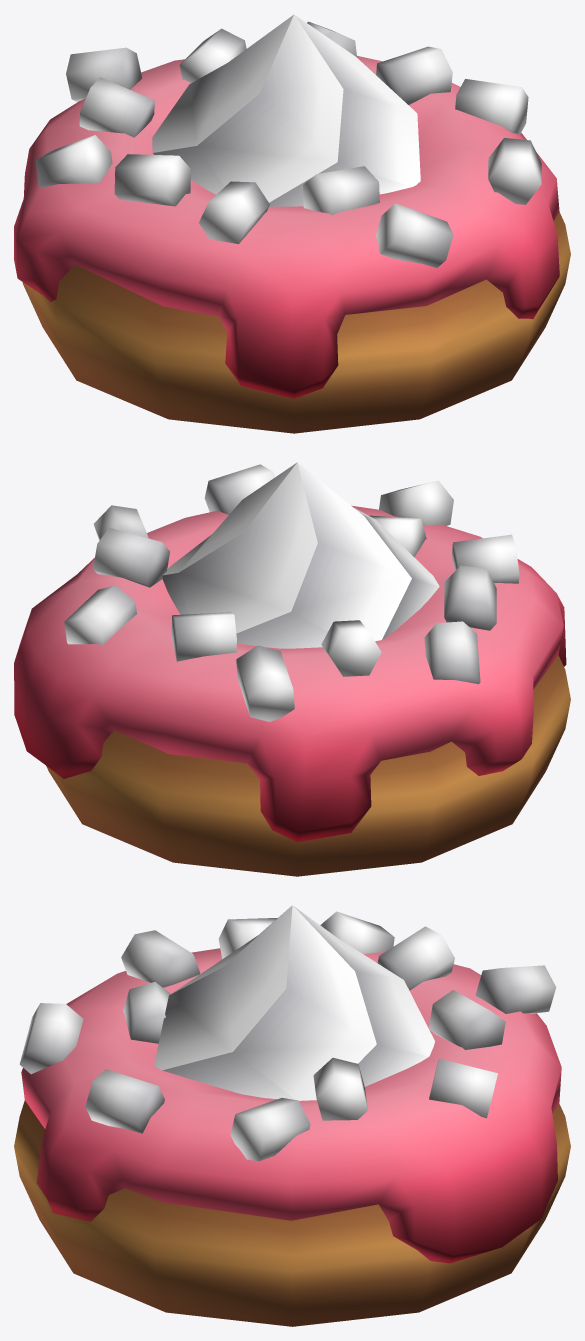
Rendered from m_Donut02.fbx.
3 views of the same model, one above another, from view 1: azimuth 30°, elevation 25°; view 2: azimuth 150°, elevation 25°; view 3: azimuth 270°, elevation 25° (orthographic).
Parts seen in each view (by area): view 1: m_Donut02; view 2: m_Donut02; view 3: m_Donut02.
Part boxes in pixels (left/top/right/bottom): m_Donut02: left=14, top=14, right=570, bottom=433; m_Donut02: left=14, top=462, right=570, bottom=876; m_Donut02: left=14, top=905, right=570, bottom=1326.
Size of the model in its own units: 12.47 by 8.32 by 12.16.
